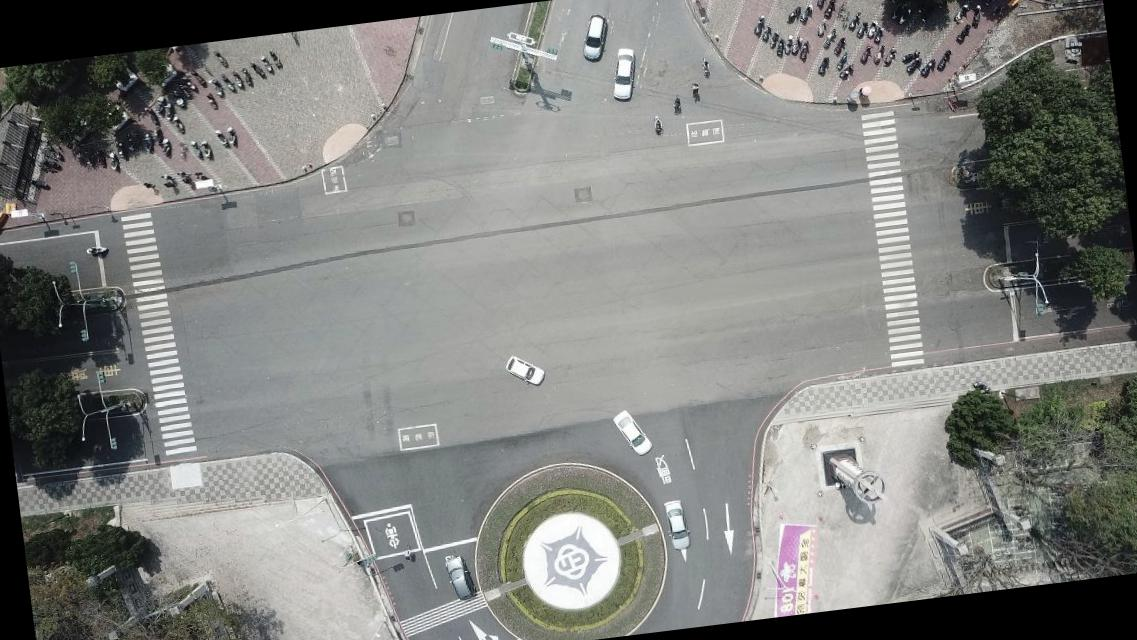vehicle: (609, 405, 654, 459), (604, 45, 641, 103), (660, 497, 694, 552), (442, 552, 478, 602), (502, 350, 546, 390), (576, 12, 611, 62)
